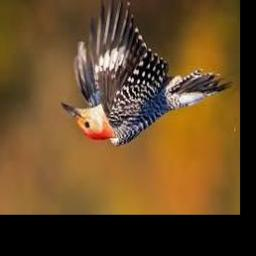Woodpecker: (61, 0, 232, 147)
